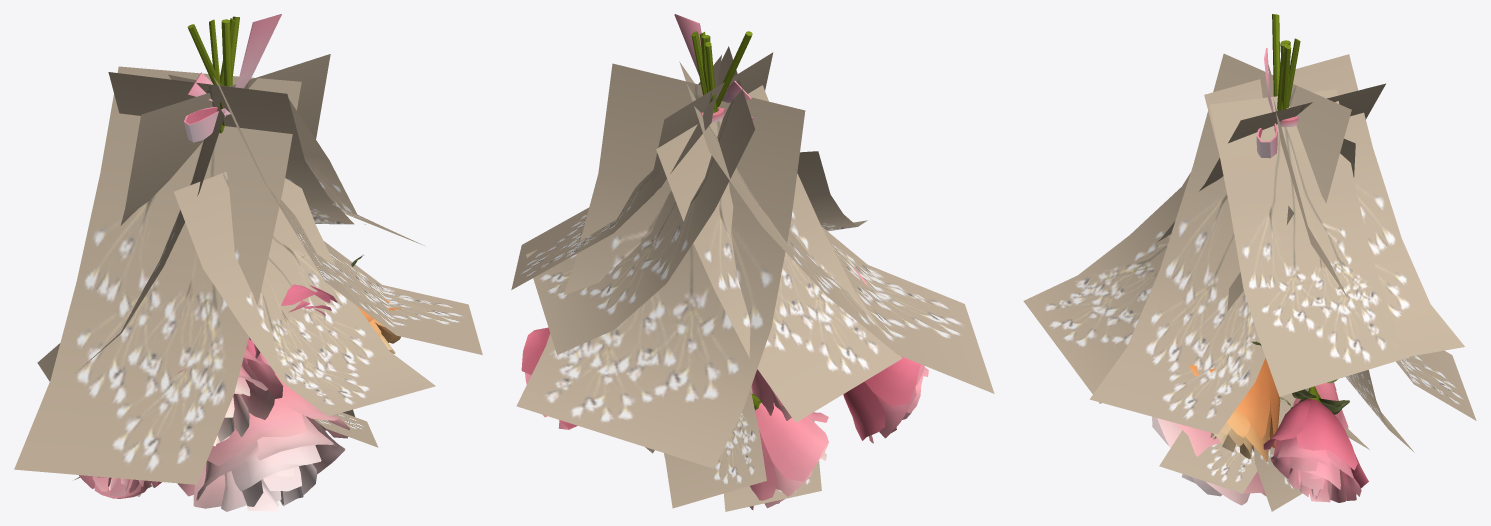
The model's file is Doll_OB_Rose_001.FBX.
The picture shows the model from 3 angles, left to right: view 1: azimuth 30°, elevation 25°; view 2: azimuth 150°, elevation 25°; view 3: azimuth 270°, elevation 25°; orthographic projection. The views are drawn at different scales.
Parts seen in each view (by area): view 1: Doll_OB_Rose_001_1, Doll_OB_Rose_001; view 2: Doll_OB_Rose_001_1, Doll_OB_Rose_001; view 3: Doll_OB_Rose_001_1, Doll_OB_Rose_001.
Part boxes in pixels (x1,y1,x2,y2): Doll_OB_Rose_001_1: (14, 54, 482, 484); Doll_OB_Rose_001: (79, 14, 401, 511); Doll_OB_Rose_001_1: (511, 46, 994, 511); Doll_OB_Rose_001: (521, 14, 928, 509); Doll_OB_Rose_001_1: (1023, 53, 1476, 511); Doll_OB_Rose_001: (1152, 14, 1368, 505).
Bounding box in the file's own units: 47.89 × 46.82 × 42.01.
